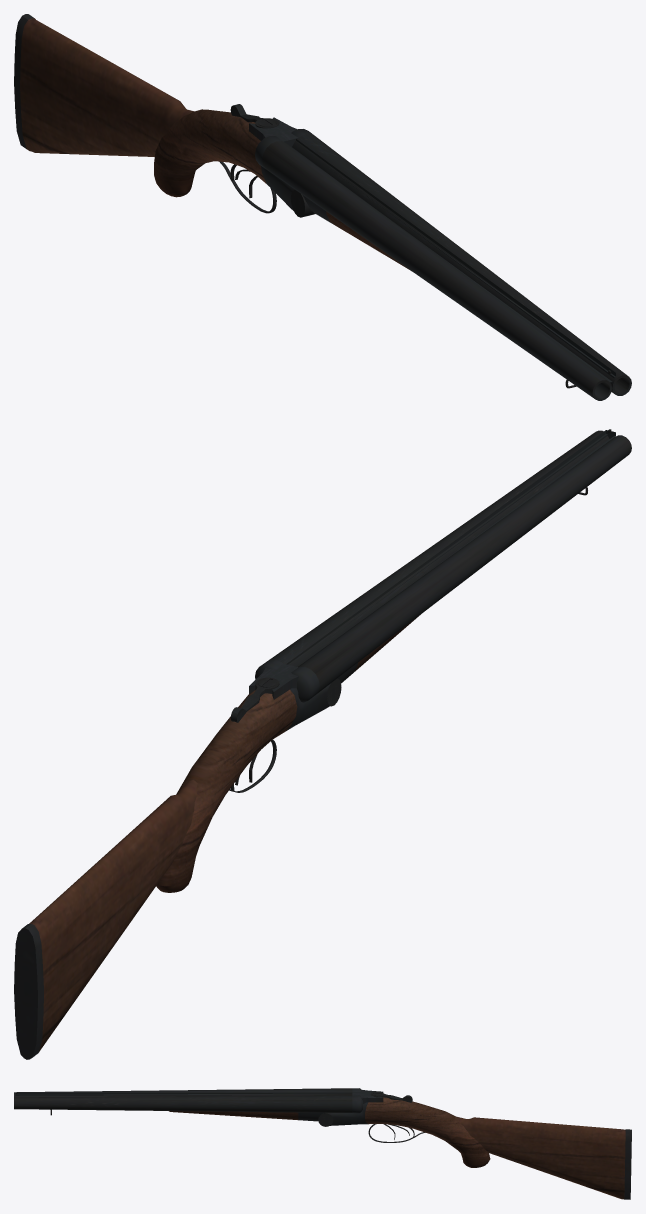
The model's file is zastava.glb.
The picture shows the model from 3 angles, top to bottom: view 1: azimuth 30°, elevation 25°; view 2: azimuth 150°, elevation 25°; view 3: azimuth 270°, elevation 25°; orthographic projection. The views are drawn at different scales.
Visible parts, largest first — view 1: ZastavaM75Shotgun_body, ZastavaM75Shotgun_barrel; view 2: ZastavaM75Shotgun_body, ZastavaM75Shotgun_barrel; view 3: ZastavaM75Shotgun_body, ZastavaM75Shotgun_barrel, ZastavaM75Shotgun_release.
Boxes of the visible parts, x1,y1,x2,y2 form: ZastavaM75Shotgun_body: [14, 14, 314, 213]; ZastavaM75Shotgun_barrel: [262, 134, 631, 400]; ZastavaM75Shotgun_body: [14, 659, 330, 1059]; ZastavaM75Shotgun_barrel: [267, 429, 631, 706]; ZastavaM75Shotgun_body: [326, 1088, 631, 1199]; ZastavaM75Shotgun_barrel: [14, 1088, 352, 1126]; ZastavaM75Shotgun_release: [371, 1091, 412, 1102].
Size of the model in its own units: 0.3151 by 1.06 by 5.52.
Materials: 1 (1 with a texture image).
